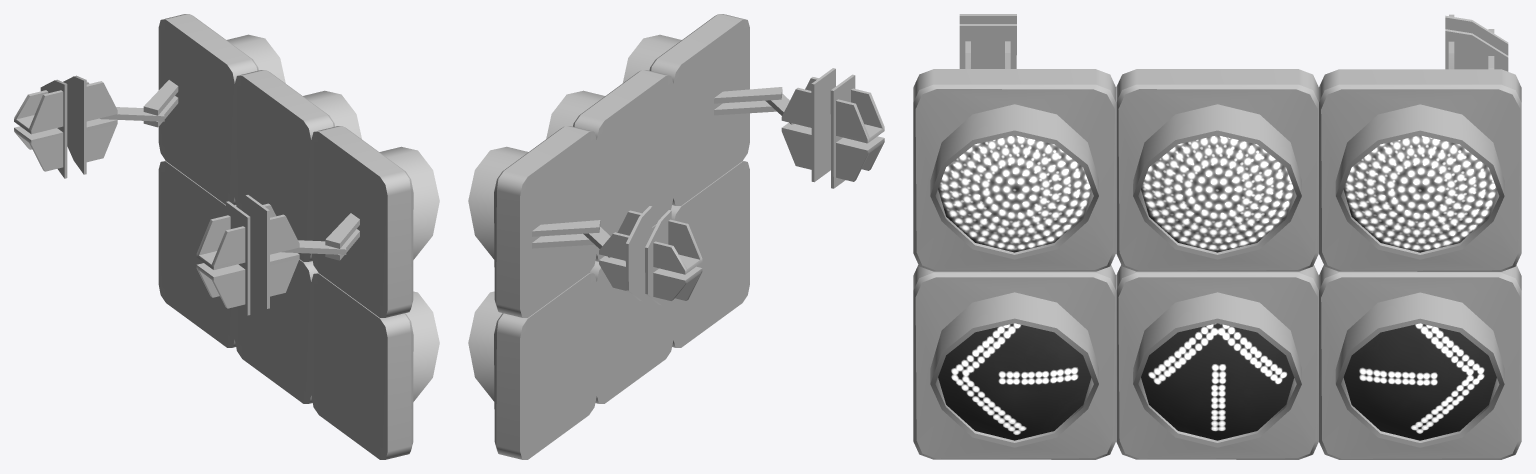
The model's file is TrafficLight6Bulbs.fbx.
The picture shows the model from 3 angles, left to right: view 1: azimuth 30°, elevation 25°; view 2: azimuth 150°, elevation 25°; view 3: azimuth 270°, elevation 25°; orthographic projection. The views are drawn at different scales.
Visible parts, largest first — view 1: TrafficLights.20; view 2: TrafficLights.20; view 3: TrafficLights.20.
Part boxes in pixels (x1,y1,x2,y2): TrafficLights.20: (14, 14, 439, 459); TrafficLights.20: (468, 14, 884, 459); TrafficLights.20: (913, 14, 1521, 459).
Bounding box in the file's own units: 70.84 × 85.91 × 126.
